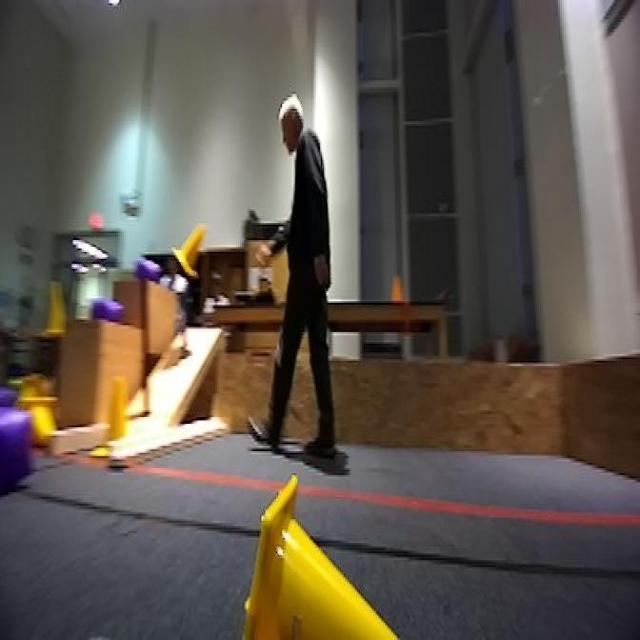frc_cone: (238, 471, 420, 640), (96, 374, 132, 460), (170, 225, 210, 279), (31, 391, 59, 446), (40, 276, 67, 332), (18, 369, 52, 400)
frc_cube: (1, 407, 33, 490), (90, 291, 128, 320), (130, 256, 159, 284), (0, 388, 18, 414)
